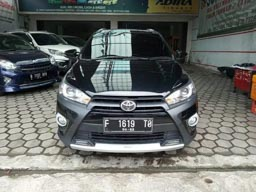plat: (103, 117, 152, 128)
